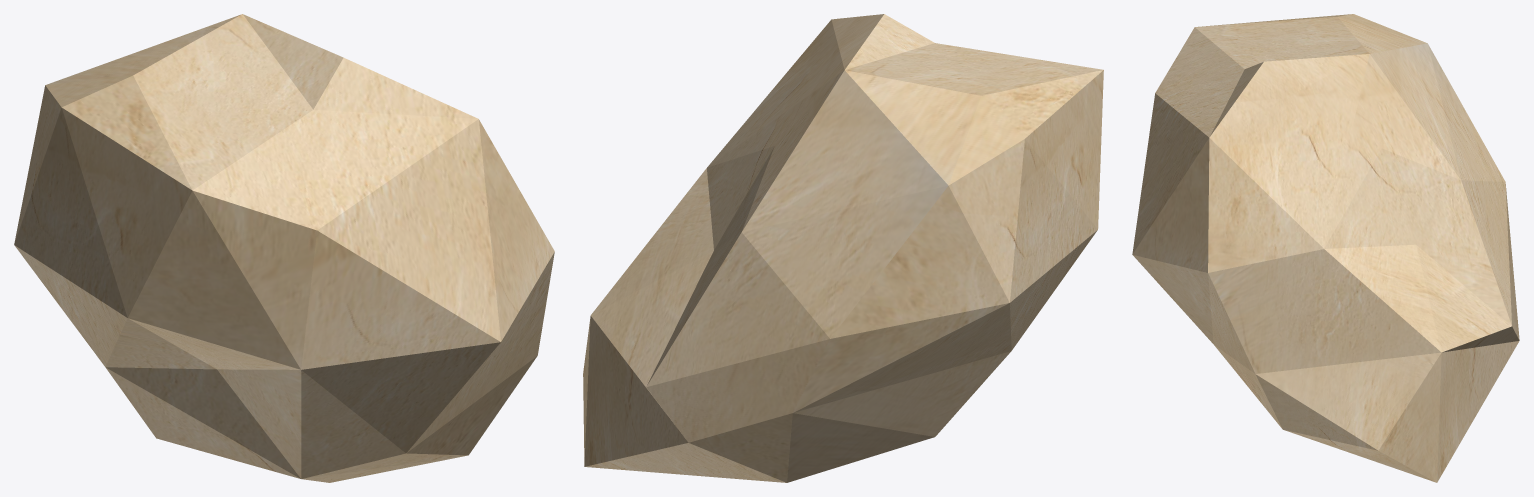
The model's file is stone1 - Copy.fbx.
3 renders of one model, left to right at view 1: azimuth 30°, elevation 25°; view 2: azimuth 150°, elevation 25°; view 3: azimuth 270°, elevation 25°, orthographic. The views are drawn at different scales.
Visible parts, largest first — view 1: Sphere; view 2: Sphere; view 3: Sphere.
Boxes of the visible parts, x1,y1,x2,y2 form: Sphere: [14, 14, 554, 482]; Sphere: [583, 14, 1103, 482]; Sphere: [1132, 14, 1519, 482].
Bounding box in the file's own units: 206 × 189 × 193.
1 material, 1 textured.
